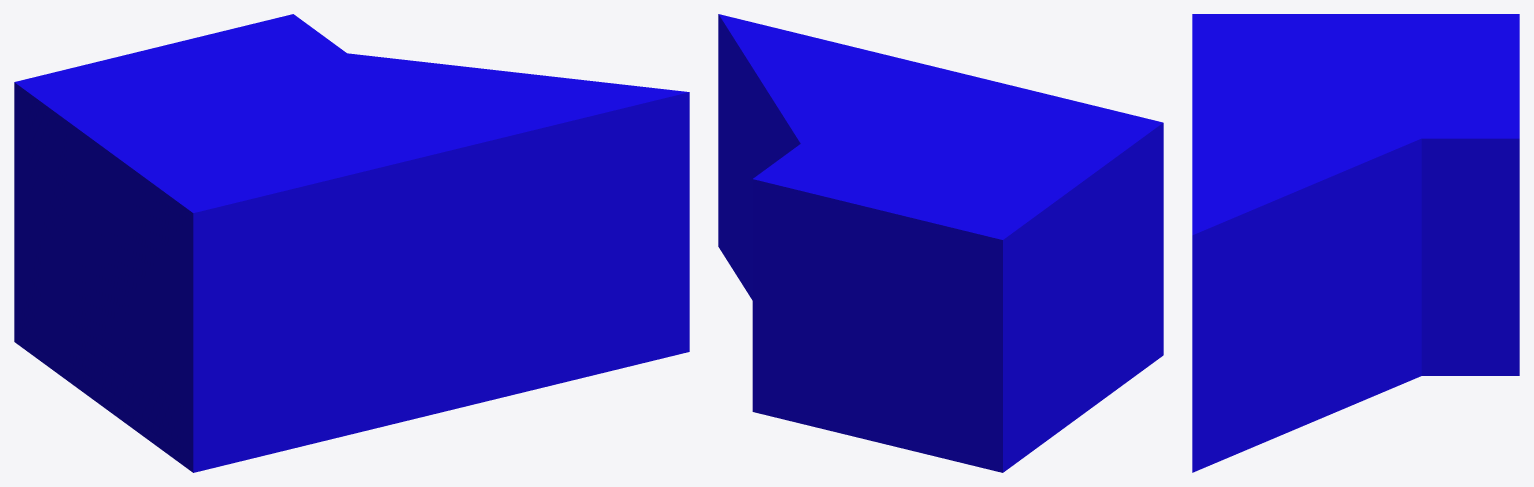
Rendered from GrenzeLinks.fbx.
3 renders of one model, left to right at view 1: azimuth 30°, elevation 25°; view 2: azimuth 150°, elevation 25°; view 3: azimuth 270°, elevation 25°, orthographic. The views are drawn at different scales.
Parts seen in each view (by area): view 1: GrenzeLinks; view 2: GrenzeLinks; view 3: GrenzeLinks.
Boxes of the visible parts, left/top/right/bottom form: GrenzeLinks: left=14, top=14, right=689, bottom=472; GrenzeLinks: left=718, top=14, right=1163, bottom=472; GrenzeLinks: left=1192, top=14, right=1519, bottom=472.
Bounding box in the file's own units: 16 × 8 × 10.
